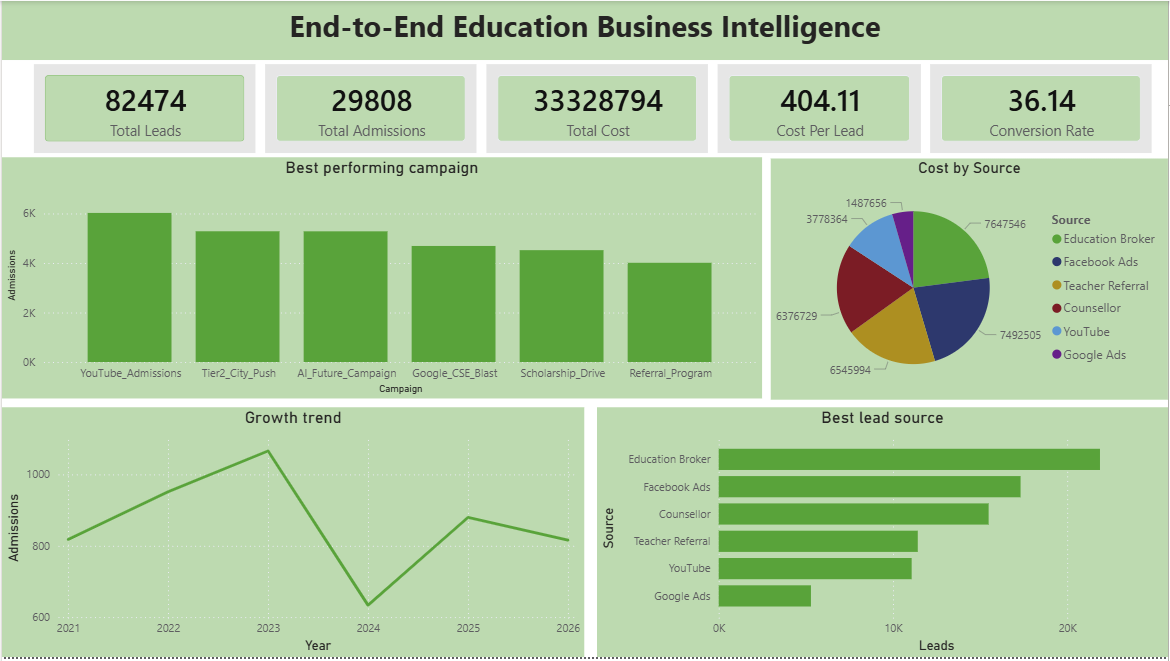

Layout of this report page (visuals, bound fields, positions):
{"tool":"powerbi","page":{"name":"Campaign Performance Dashboard","canvas":[1280,720],"ordinal":0},"visuals":[{"type":"cardVisual","fields":{"Data":["Fact_Campaign_Performance.Total Leads"]},"box":[30.2,64.5,253.9,107],"z":0},{"type":"cardVisual","fields":{"Data":["Fact_Campaign_Performance.Total Admissions"]},"box":[284,64.5,242.9,107],"z":1000},{"type":"cardVisual","fields":{"Data":["Fact_Campaign_Performance.Total Cost"]},"box":[526.9,64.5,253.9,107],"z":2000},{"type":"cardVisual","fields":{"Data":["Fact_Campaign_Performance.Cost Per Lead"]},"box":[780.8,64.5,233.3,107],"z":3000},{"type":"cardVisual","fields":{"Data":["Fact_Campaign_Performance.Conversion Rate %"]},"box":[1014.1,64.5,253.9,107],"z":4000},{"type":"columnChart","title":"Best performing campaign","fields":{"Category":["Fact_Campaign_Performance.Campaign"],"Y":["Sum(Fact_Campaign_Performance.Admissions)"]},"box":[0,171.5,834.3,264.8],"z":5000},{"type":"barChart","title":"Best lead source","fields":{"Category":["Fact_Campaign_Performance.Source"],"Y":["Sum(Fact_Campaign_Performance.Leads)"]},"box":[653.2,446,627.1,274.4],"z":6000},{"type":"lineChart","title":"Growth trend","fields":{"Y":["Median(Fact_Campaign_Performance.Admissions)"],"Category":["Fact_Campaign_Performance.Year"]},"box":[0,446,639.5,274.4],"z":7000},{"type":"textbox","box":[0,0,1280.3,64.5],"z":8000},{"type":"pieChart","title":"Cost by Source","fields":{"Y":["Sum(Fact_Campaign_Performance.Cost)"],"Category":["Fact_Campaign_Performance.Source"]},"box":[843.9,172.9,436.4,264.8],"z":9000}]}

Visuals, with their boxes in screenshot pixels (x1, y1, x2, y2), scaled from the page's 1280x720 canvas onto the 1170x661 screenshot:
cardVisual - Fact_Campaign_Performance.Total Leads: (left=28, top=59, right=260, bottom=157)
cardVisual - Fact_Campaign_Performance.Total Admissions: (left=260, top=59, right=482, bottom=157)
cardVisual - Fact_Campaign_Performance.Total Cost: (left=482, top=59, right=714, bottom=157)
cardVisual - Fact_Campaign_Performance.Cost Per Lead: (left=714, top=59, right=927, bottom=157)
cardVisual - Fact_Campaign_Performance.Conversion Rate %: (left=927, top=59, right=1159, bottom=157)
"Best performing campaign" columnChart: (left=0, top=157, right=763, bottom=401)
"Best lead source" barChart: (left=597, top=409, right=1169, bottom=660)
"Growth trend" lineChart: (left=0, top=409, right=585, bottom=660)
textbox: (left=0, top=0, right=1169, bottom=59)
"Cost by Source" pieChart: (left=771, top=159, right=1169, bottom=402)
